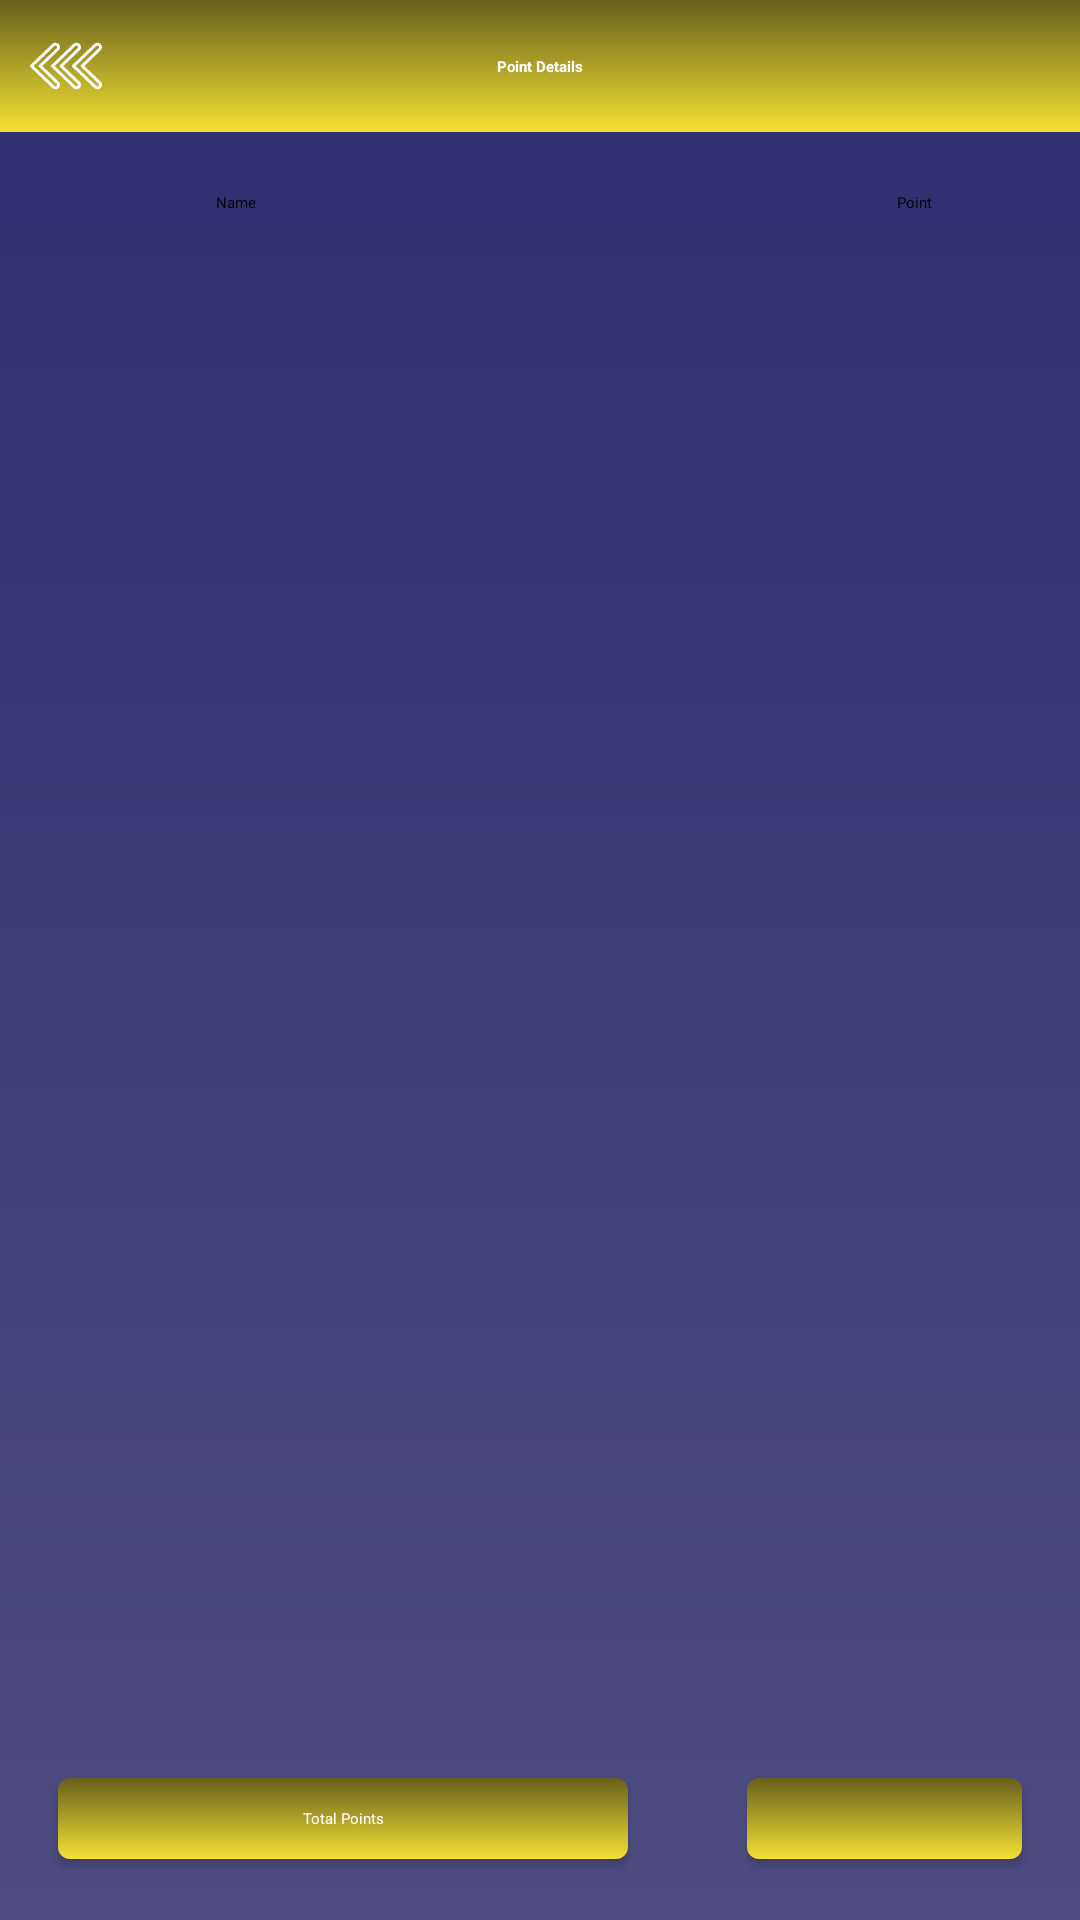

Where to tap for icons on this 1080x1920 app screen, as [x,y]:
arrow back: [66,66]
